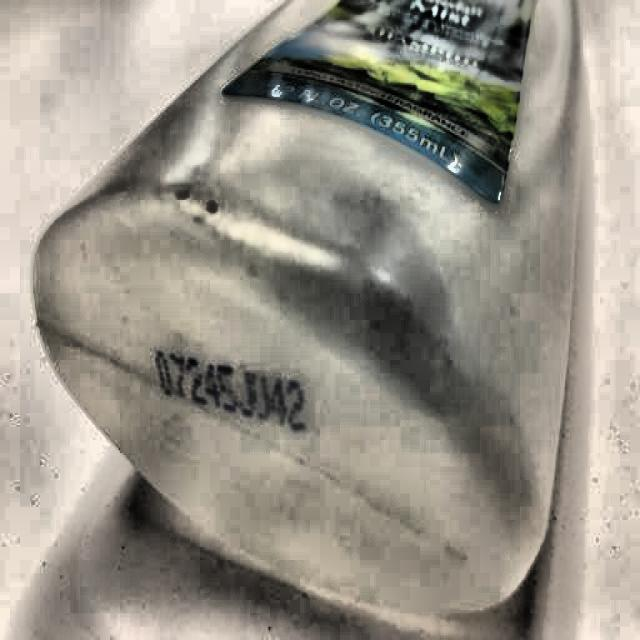plastic: (30, 0, 582, 616)
